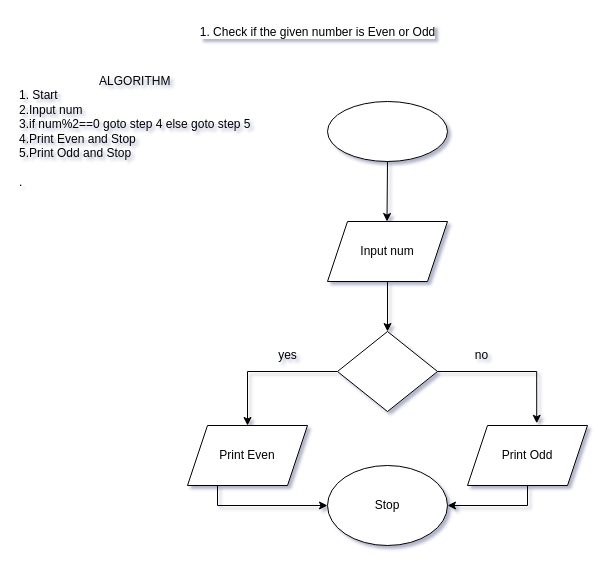
This 611x569 diagram has some shape labels left out. The box of each missing label's shape, as (x1, y1, x2, y2) in pixels:
if num%2==0: (336, 330, 438, 412)
Start: (326, 100, 448, 162)
